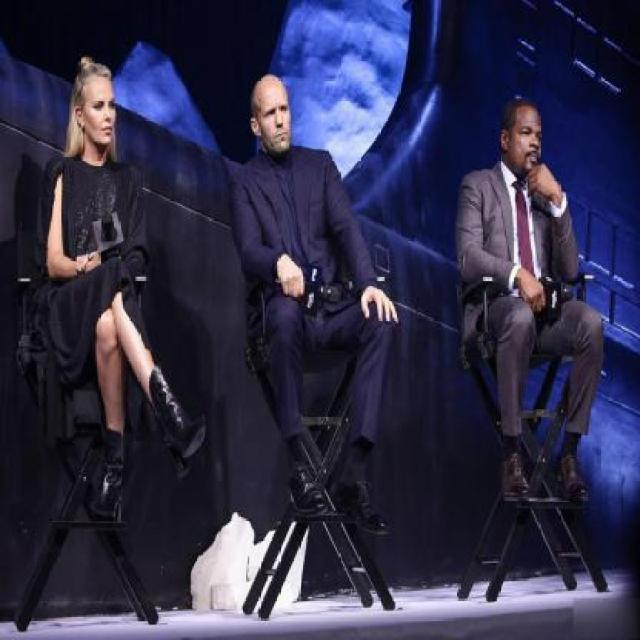Person: (220, 50, 422, 553), (21, 39, 208, 553), (448, 74, 610, 528)
